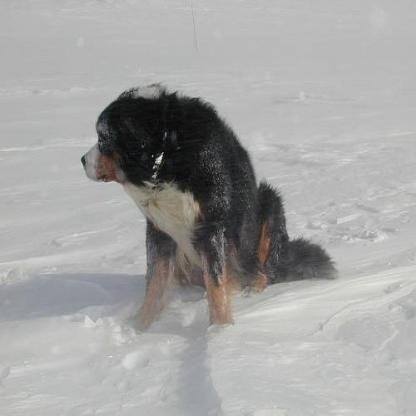Bernese_mountain_dog: (79, 81, 338, 336)
